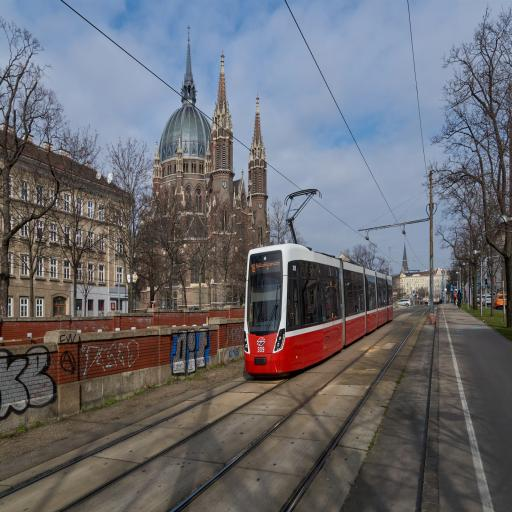Flexity: (242, 244, 394, 378)
